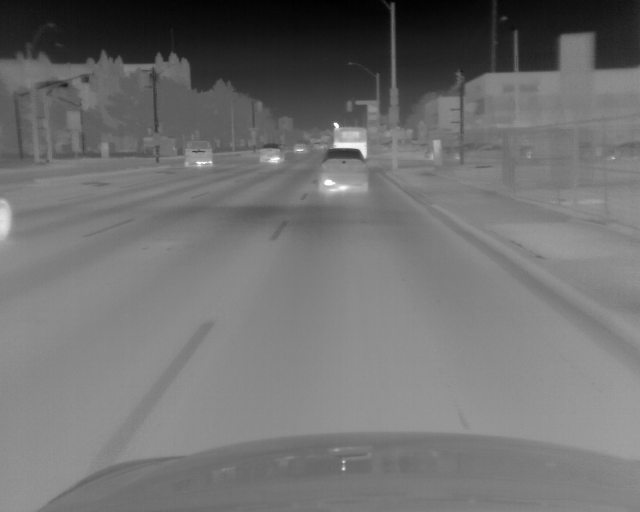car: (318, 148, 369, 191), (332, 126, 369, 159), (457, 142, 508, 161), (183, 139, 213, 167), (609, 139, 640, 162), (426, 139, 457, 161), (258, 143, 283, 165), (293, 140, 309, 154), (309, 142, 328, 150)
